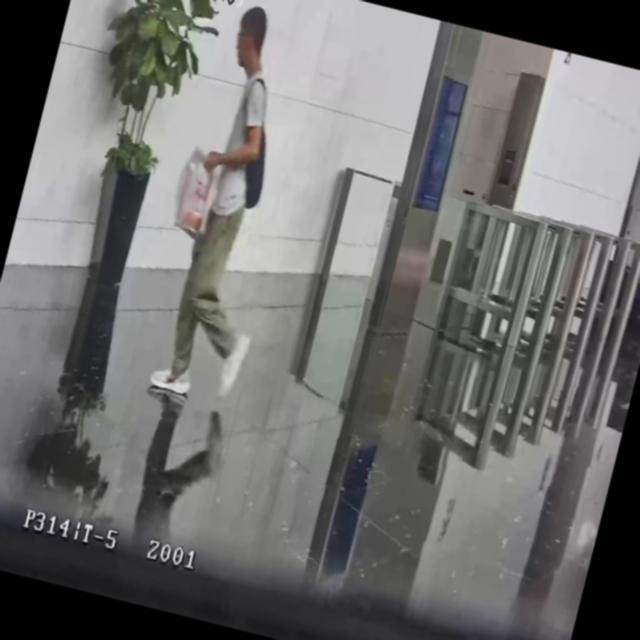person: (145, 1, 329, 412)
